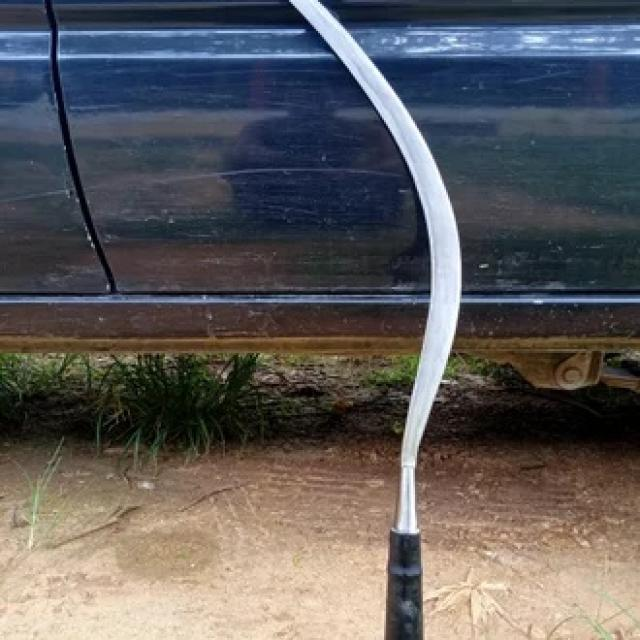Celurit: (295, 4, 465, 640)
